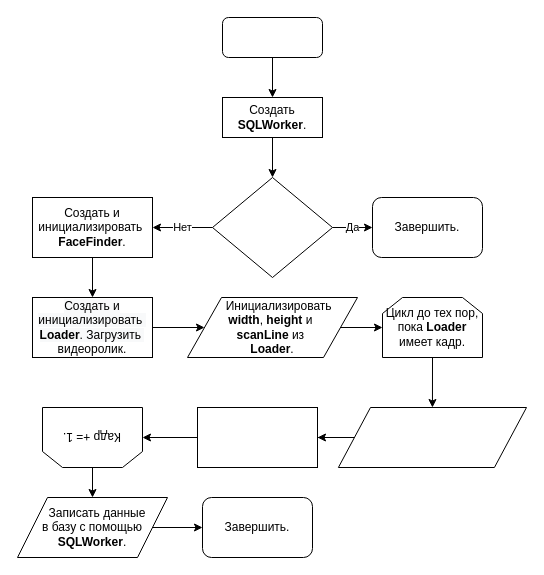
Image size: 544x575. Some labels were removed from this diagram. Each missing label, with the centre of its shape:
"Добавить изображение в FaceFinder ." goes at point (257, 437).
"Инициализировать data и curentFrameNumber из Loader ." goes at point (431, 437).
"Начало." goes at point (272, 37).
"Проверить, есть ли ролик в базе." goes at point (272, 227).
